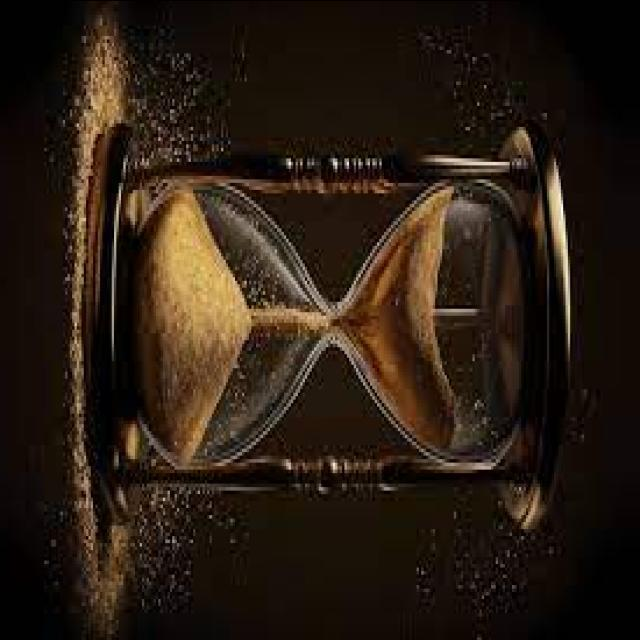clock: (64, 100, 586, 536)
